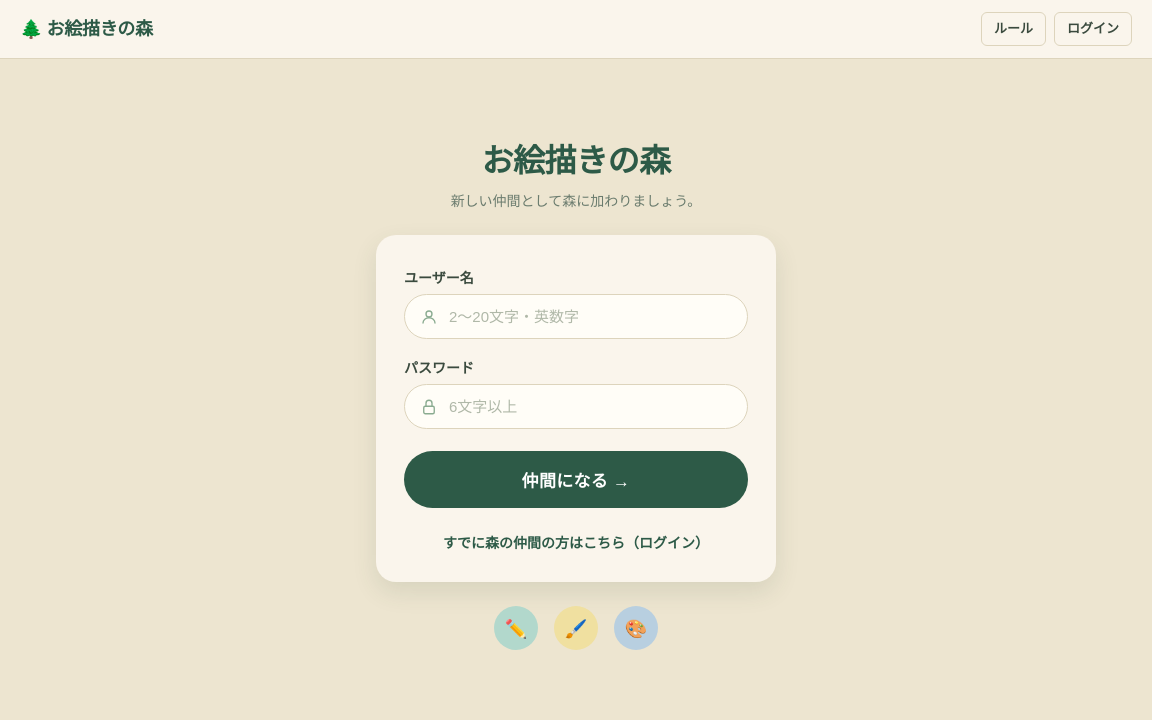
Test case: Register ページ › username が短すぎるとエラーが表示される
Type "a" into the field labelled "ユーザー名" at (576, 317), box [404,294,748,339]
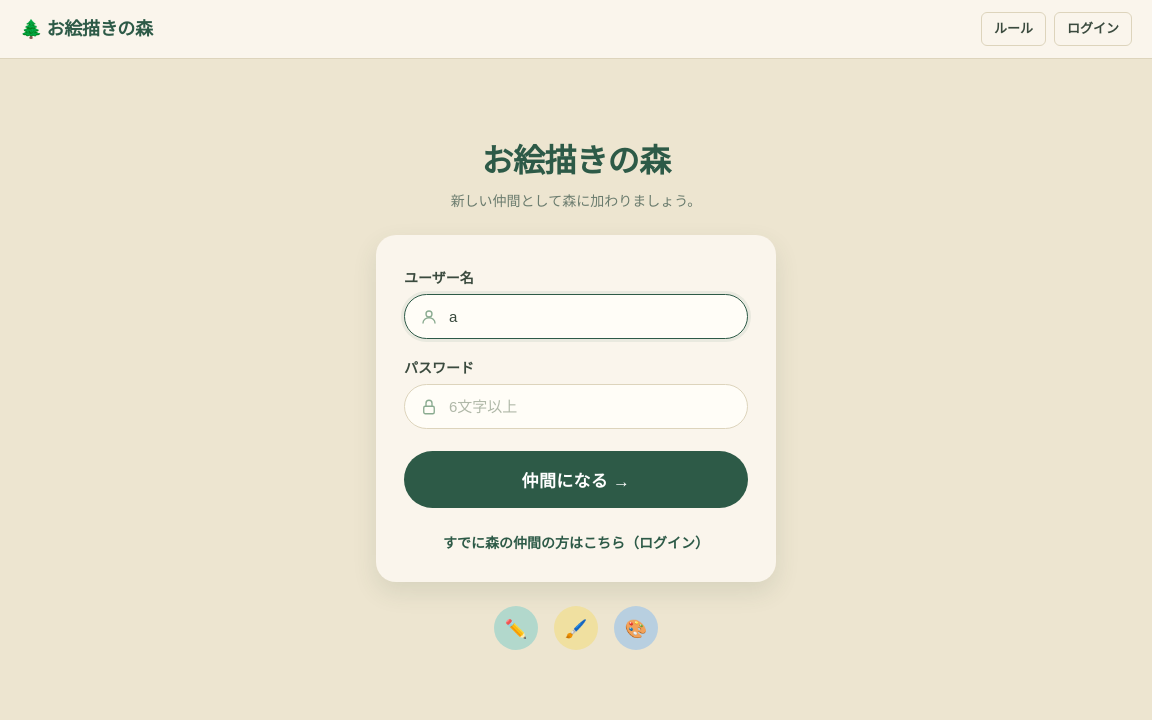
Type "pass123" into the password field labelled "パスワード" at (576, 407), box [404,384,748,429]
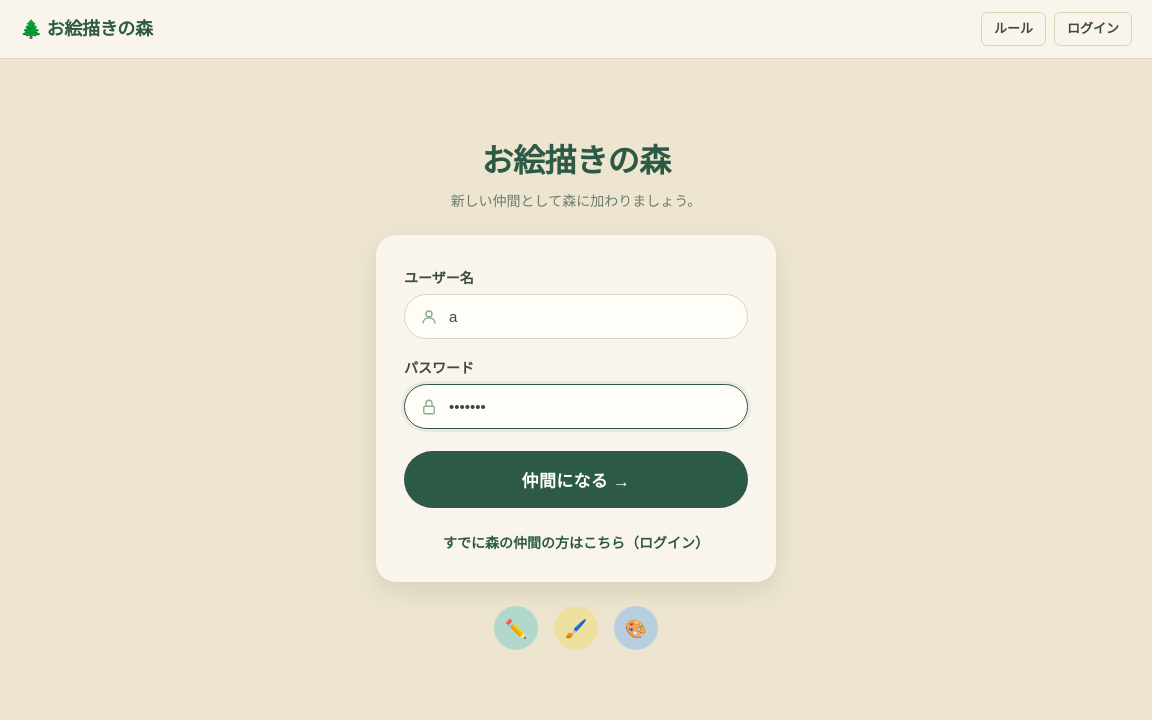
Click the button "仲間になる →" at (576, 480), box [404,451,748,508]
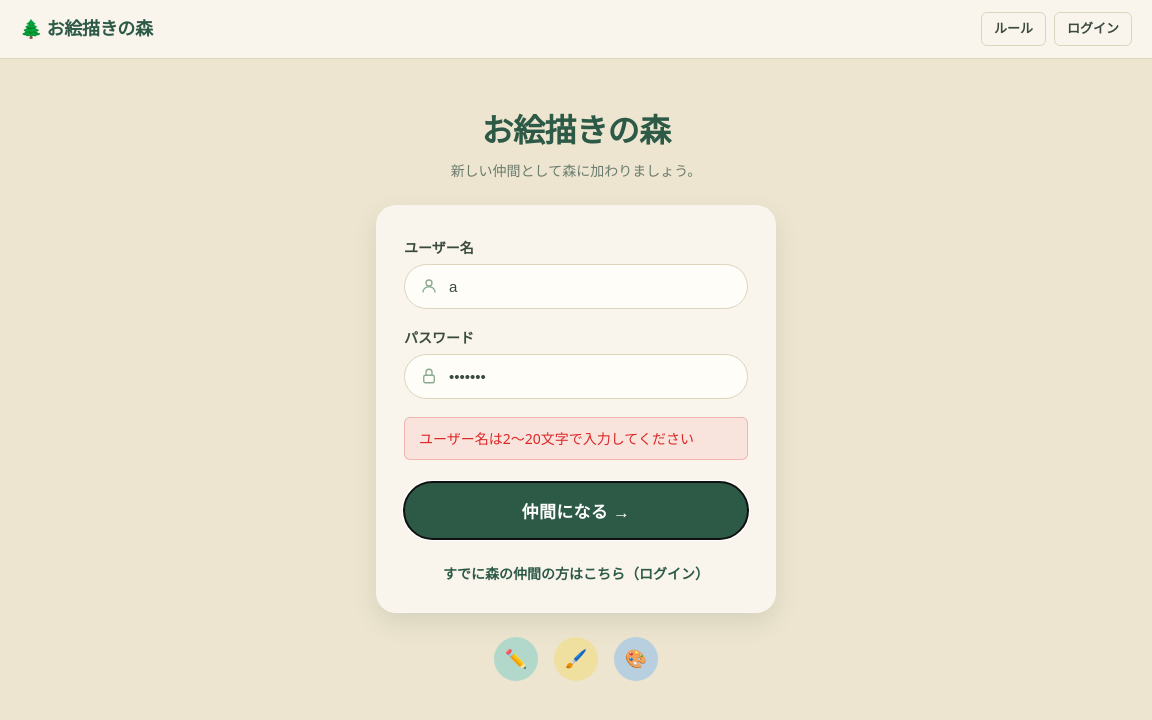
Expected: the message shows "2〜20文字", [419,429,694,448]
